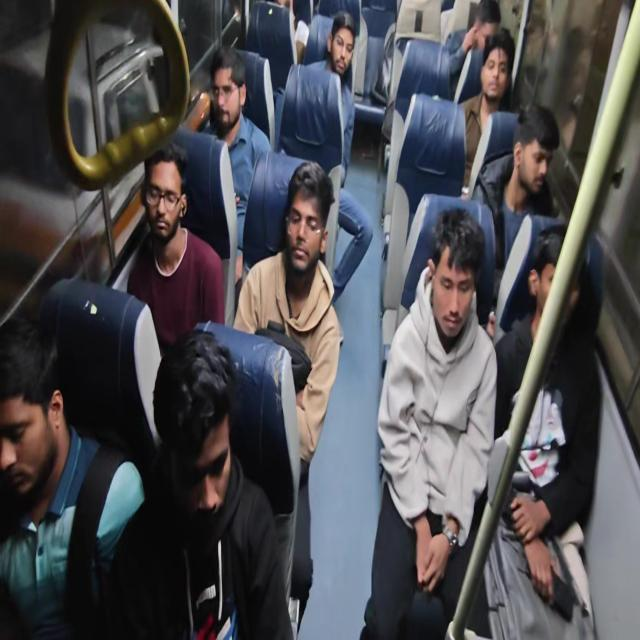person: (141, 330, 236, 520), (1, 318, 76, 511), (425, 205, 483, 352), (528, 220, 586, 334), (279, 154, 331, 280), (513, 100, 564, 208), (142, 146, 192, 244), (208, 45, 248, 136), (477, 30, 519, 115), (327, 9, 362, 82), (477, 2, 501, 46)
